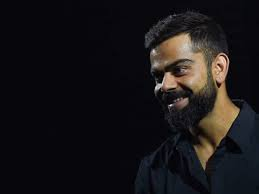noMask: (135, 7, 232, 127)
